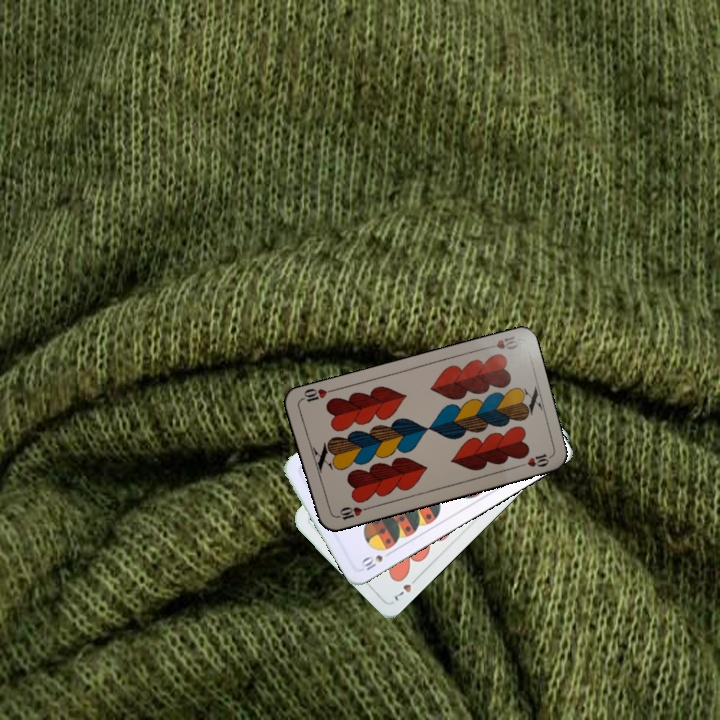H10: (330, 503, 371, 523), (480, 332, 521, 352)
H7: (390, 572, 422, 604)
S10: (357, 547, 395, 573)
